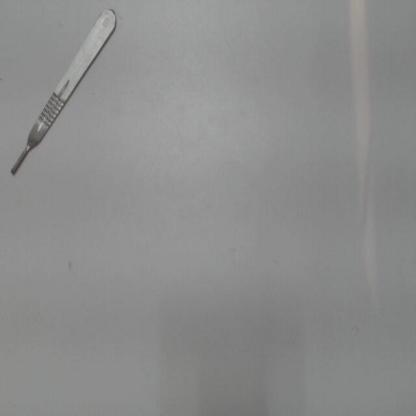No.3 BP Handle: (6, 3, 127, 184)
